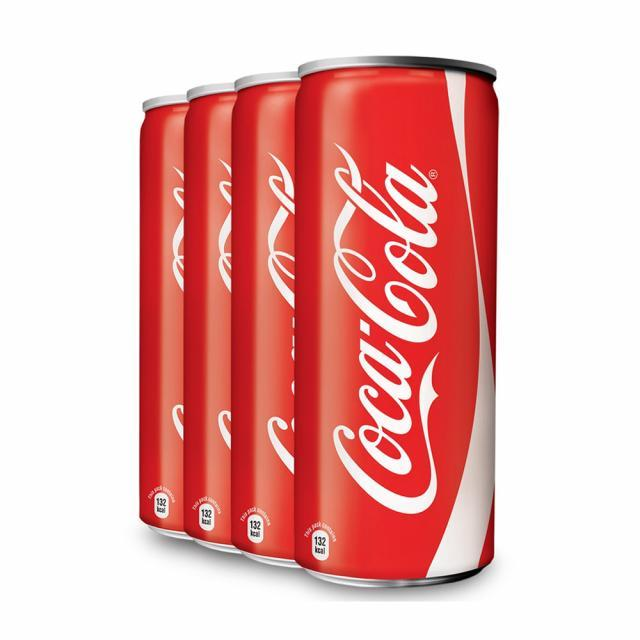coca-cola: (290, 51, 502, 594)
